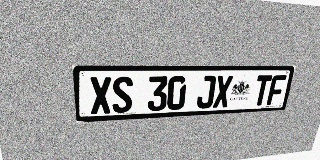0: (166, 76, 187, 110)
3: (148, 76, 168, 111)
F: (266, 75, 287, 105)
J: (196, 76, 216, 109)
S: (112, 76, 133, 113)
T: (252, 75, 272, 106)
X: (89, 77, 112, 114), (213, 76, 233, 108)
